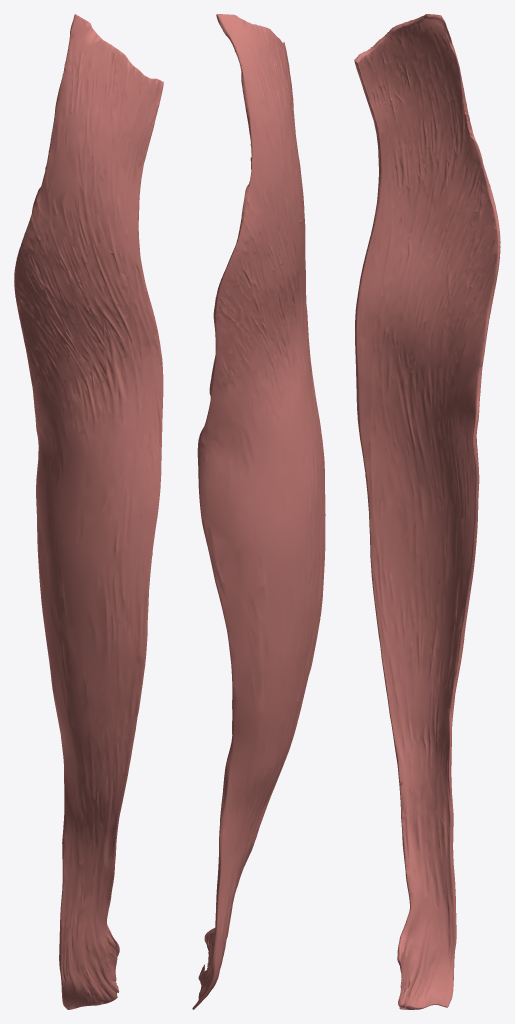
The picture shows the model from 3 angles, left to right: view 1: azimuth 90°, elevation 25°; view 2: azimuth 150°, elevation 25°; view 3: azimuth 270°, elevation 25°; orthographic projection. The views are drawn at different scales.
Visible parts, largest first — view 1: ZA_c50e8a3180cf5fbe; view 2: ZA_c50e8a3180cf5fbe; view 3: ZA_c50e8a3180cf5fbe.
Part boxes in pixels (<box>): ZA_c50e8a3180cf5fbe: <box>14,14,163,1009</box>; ZA_c50e8a3180cf5fbe: <box>192,14,325,1009</box>; ZA_c50e8a3180cf5fbe: <box>354,14,500,1009</box>.
Size of the model in its own units: 0.0714 by 0.6053 by 0.0816.
